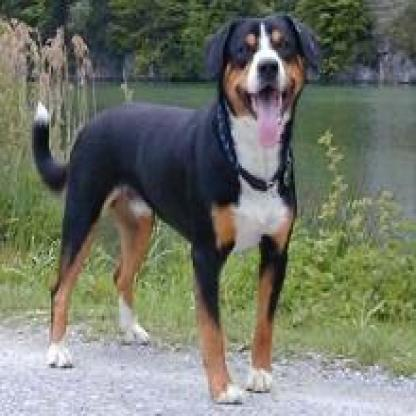EntleBucher: (19, 11, 319, 405)
